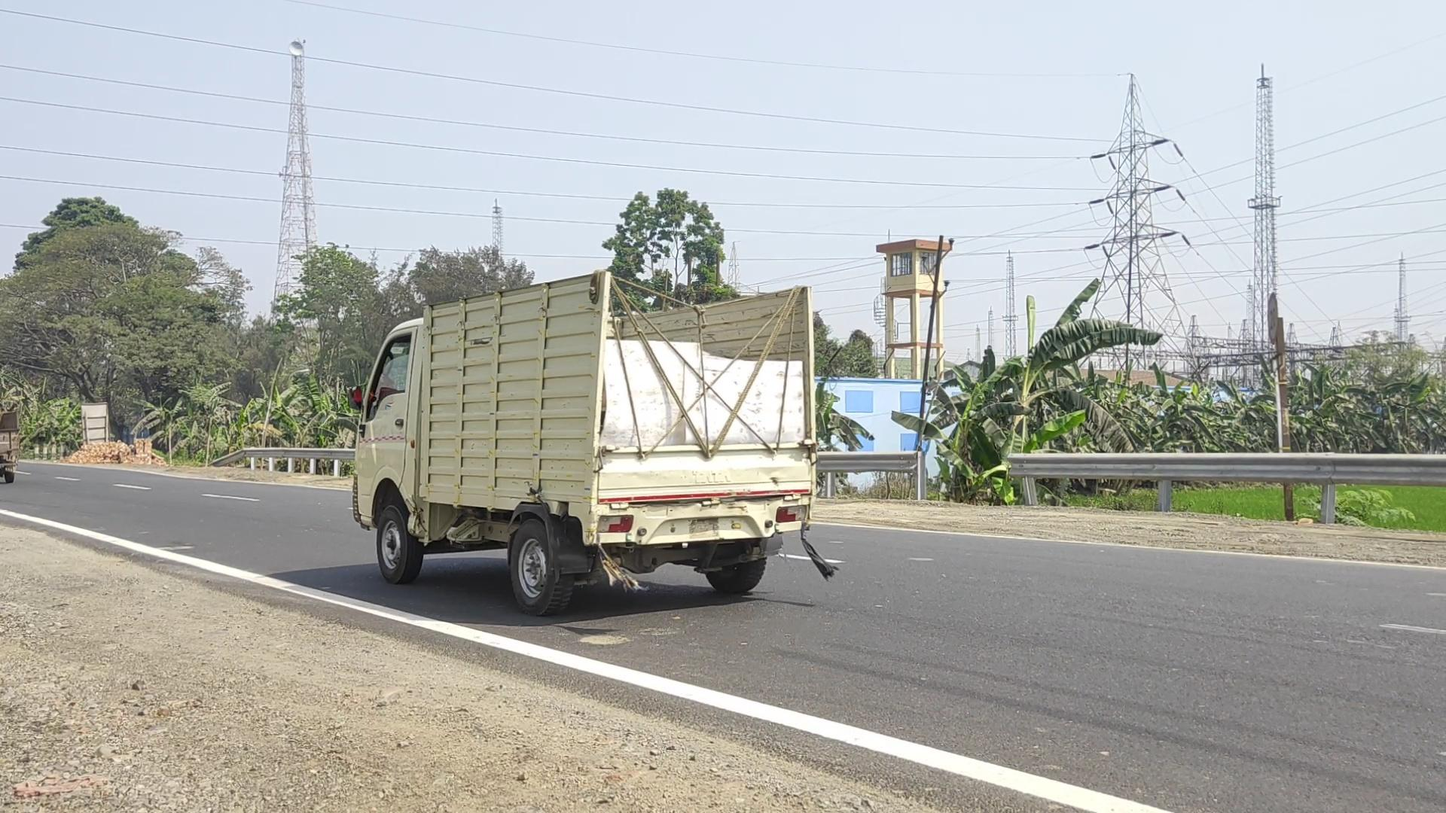van: (346, 269, 817, 617)
